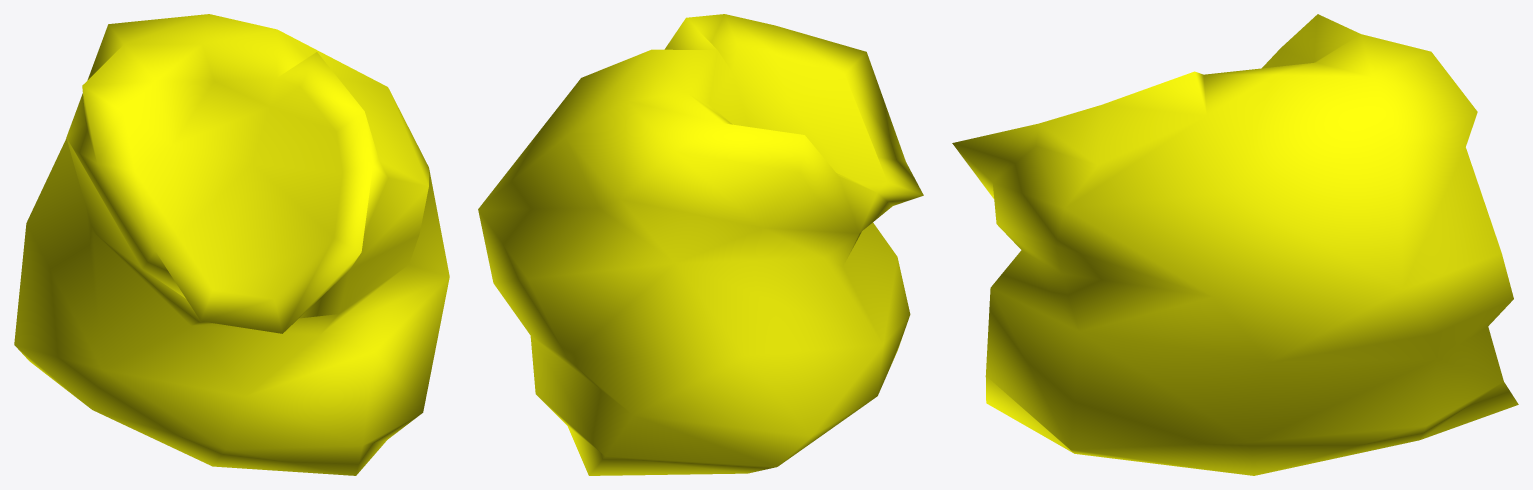
File: BinBagOpen.glb
3 views of the same model, side by side, from view 1: azimuth 30°, elevation 25°; view 2: azimuth 150°, elevation 25°; view 3: azimuth 270°, elevation 25° (orthographic). The views are drawn at different scales.
Parts seen in each view (by area): view 1: BinBagOpen; view 2: BinBagOpen; view 3: BinBagOpen.
Boxes of the visible parts, x1=… form: BinBagOpen: x1=14, y1=14, x2=449, y2=475; BinBagOpen: x1=478, y1=14, x2=923, y2=475; BinBagOpen: x1=952, y1=14, x2=1518, y2=475.
Bounding box in the file's own units: 0.8548 × 0.8522 × 1.17.
1 material, 1 textured.
